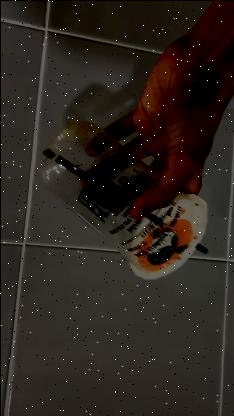Others: (37, 118, 205, 278)
